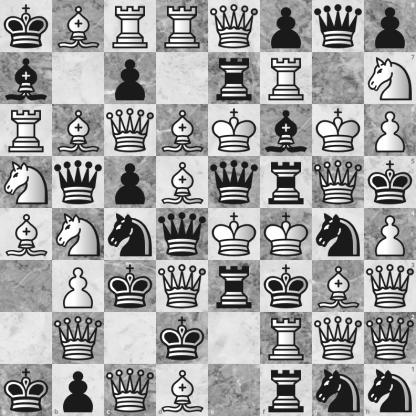B: (156, 364, 209, 416), (1, 209, 52, 260), (53, 1, 104, 52), (53, 105, 104, 156), (157, 105, 208, 156), (157, 157, 208, 208), (313, 261, 364, 312)
K: (209, 105, 260, 156), (209, 209, 260, 260), (261, 209, 312, 260), (313, 105, 364, 156)
N: (364, 52, 416, 104), (1, 157, 52, 208), (53, 209, 104, 260)
P: (364, 104, 416, 156), (364, 209, 416, 260), (53, 261, 104, 312)
Q: (104, 364, 156, 416), (364, 260, 416, 312), (364, 312, 416, 364), (53, 313, 104, 364), (105, 105, 156, 156), (157, 261, 208, 312), (209, 1, 260, 52), (313, 157, 364, 208), (313, 313, 364, 364)
R: (1, 105, 52, 156), (105, 1, 156, 52), (157, 1, 208, 52), (261, 53, 312, 104), (261, 313, 312, 364)
b: (1, 53, 52, 104), (261, 105, 312, 156)
board: (0, 0, 415, 415)
k: (364, 156, 416, 209), (0, 364, 52, 416), (1, 1, 52, 52), (105, 261, 156, 312), (157, 313, 208, 364), (261, 261, 312, 312)
n: (312, 364, 364, 416), (364, 364, 416, 416), (105, 209, 156, 260), (313, 209, 364, 260)
p: (52, 364, 104, 416), (364, 0, 416, 52), (105, 53, 156, 104), (105, 157, 156, 208), (261, 1, 312, 52)
q: (53, 157, 104, 208), (157, 209, 208, 260), (209, 157, 260, 208), (313, 1, 364, 52)
r: (260, 364, 312, 416), (209, 53, 260, 104), (209, 261, 260, 312), (261, 157, 312, 208)
